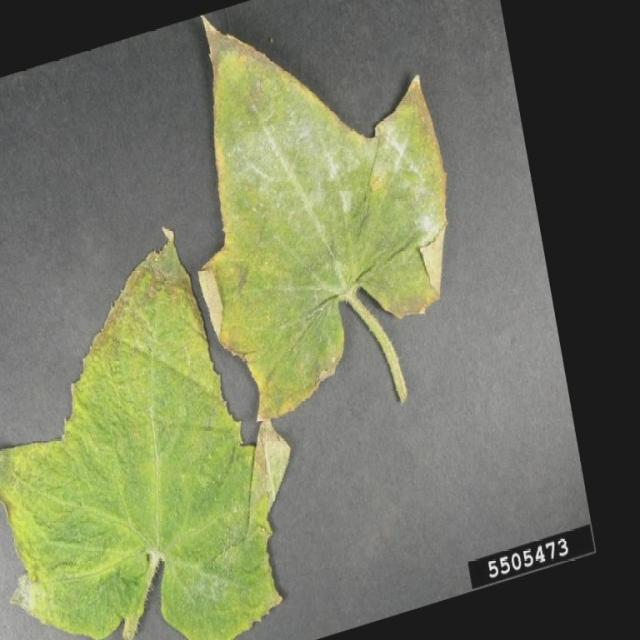Powdery_Mildew: (200, 8, 450, 352), (112, 240, 298, 522), (9, 520, 285, 640)
